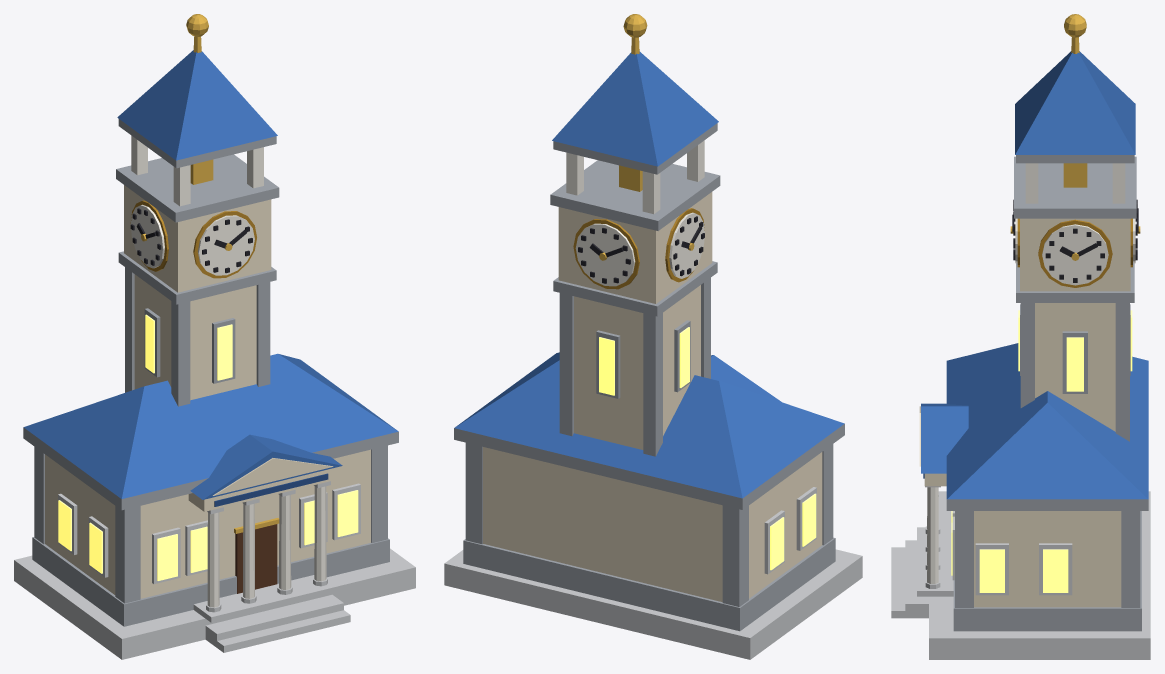
The model's file is b-town-hall.glb.
3 views of the same model, side by side, from view 1: azimuth 30°, elevation 25°; view 2: azimuth 150°, elevation 25°; view 3: azimuth 270°, elevation 25° (orthographic). The views are drawn at different scales.
Parts seen in each view (by area): view 1: b-town-hall; view 2: b-town-hall; view 3: b-town-hall.
Boxes of the visible parts, box(x1,y1,x2,y2) form: b-town-hall: box(14, 14, 415, 659); b-town-hall: box(444, 14, 862, 659); b-town-hall: box(891, 14, 1150, 659).
Bounding box in the file's own units: 4.4 × 7.97 × 3.27.
